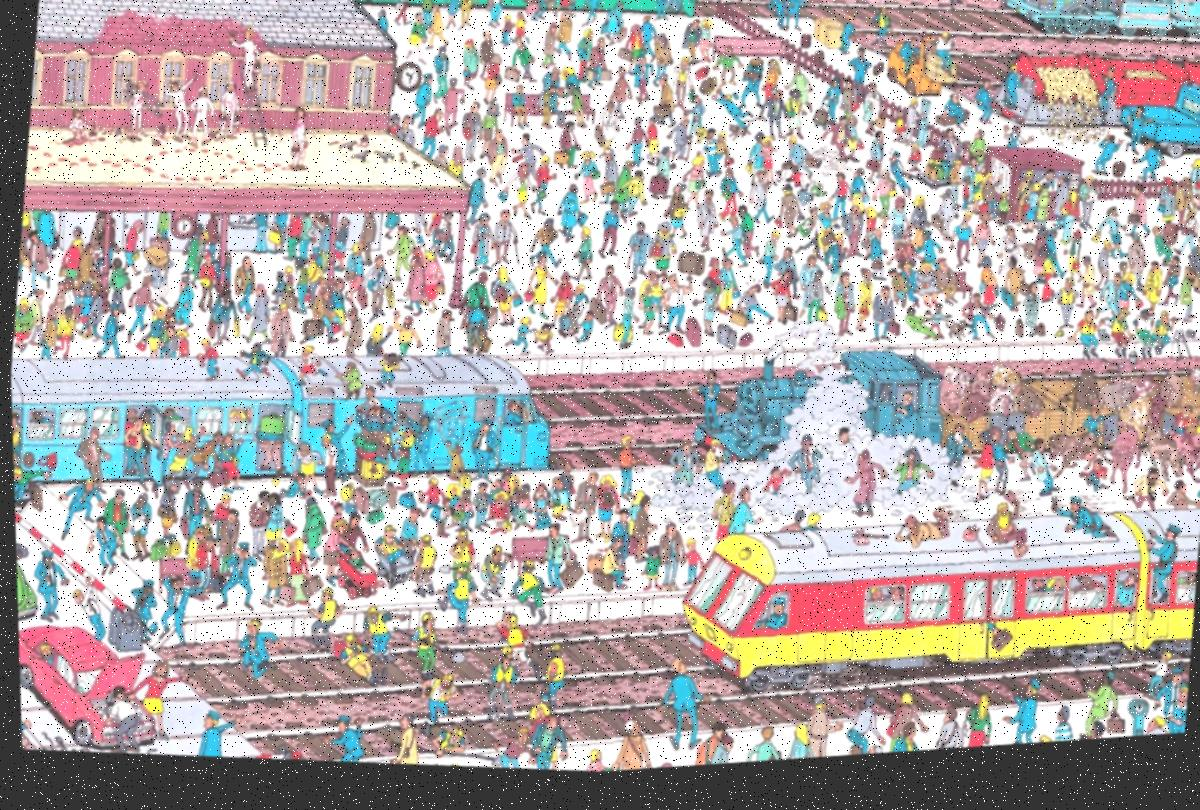waldo: (900, 242, 912, 257)
